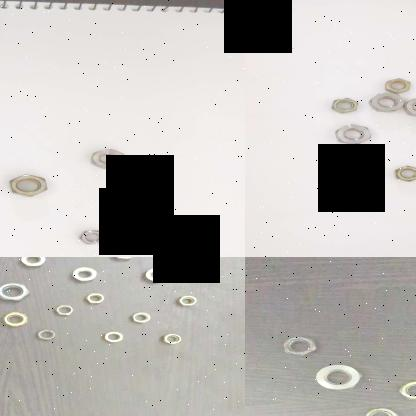NUTS: (310, 360, 364, 392), (327, 121, 377, 146), (280, 332, 323, 361), (5, 171, 49, 199), (89, 146, 128, 172), (372, 89, 404, 114), (0, 280, 32, 302), (393, 374, 416, 404), (0, 308, 31, 328), (64, 265, 102, 281), (78, 226, 108, 245), (325, 96, 358, 113), (385, 74, 413, 94), (389, 162, 416, 182), (140, 266, 171, 283), (361, 405, 405, 416), (158, 332, 188, 348), (176, 290, 200, 309), (52, 300, 76, 317), (17, 257, 49, 269), (100, 328, 124, 344), (33, 326, 59, 340), (130, 308, 152, 324), (402, 93, 416, 116), (84, 291, 108, 304)
